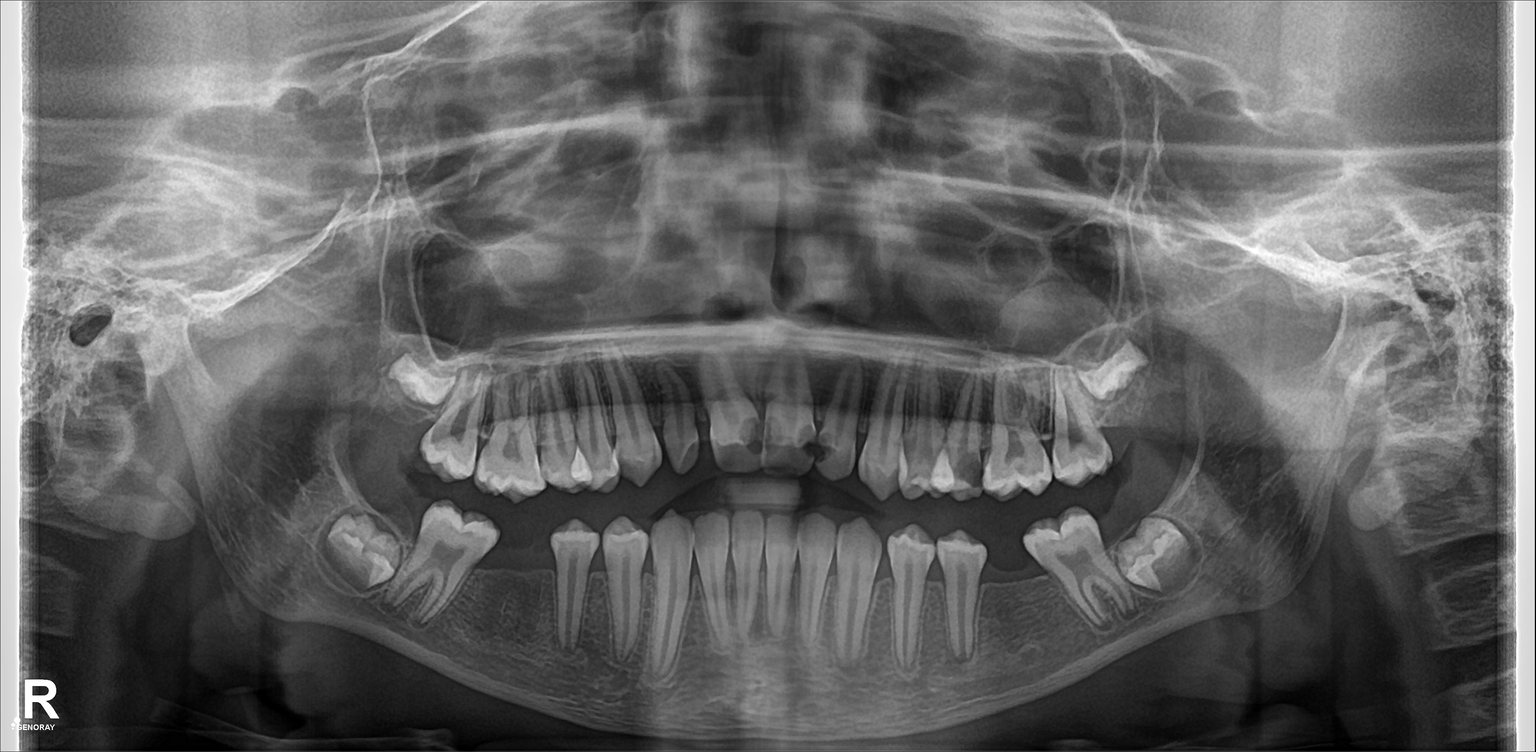Dental Caries: (734, 419, 776, 448), (953, 454, 989, 484), (805, 430, 833, 457)
Impacted Third Molar: (320, 504, 410, 587), (1114, 516, 1204, 587), (387, 341, 450, 419), (1084, 348, 1158, 405)
Missing Tooth: (1108, 337, 1184, 465), (987, 534, 1041, 640), (503, 530, 551, 629)
